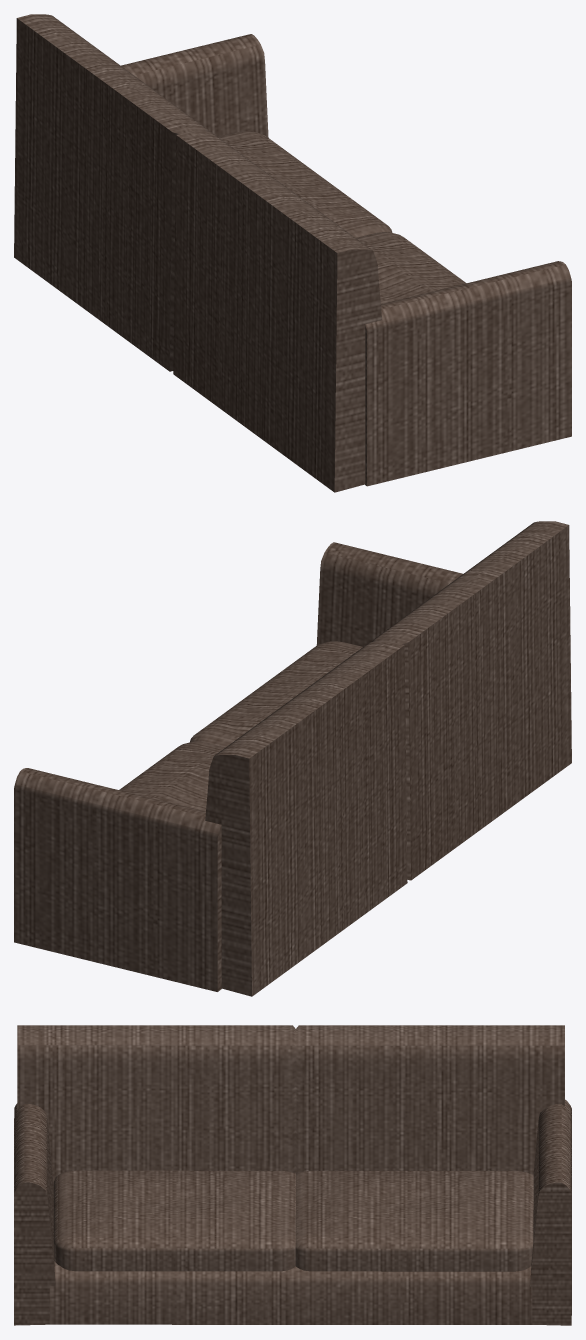
The model's file is Sofa.fbx.
3 views of the same model, one above another, from view 1: azimuth 30°, elevation 25°; view 2: azimuth 150°, elevation 25°; view 3: azimuth 270°, elevation 25° (orthographic). The views are drawn at different scales.
Parts seen in each view (by area): view 1: pCube67; view 2: pCube67; view 3: pCube67.
Part boxes in pixels (left/top/right/bottom): pCube67: left=14, top=14, right=571, bottom=492; pCube67: left=14, top=521, right=571, bottom=996; pCube67: left=14, top=1025, right=571, bottom=1325.
Bounding box in the file's own units: 129 × 124 × 306.
